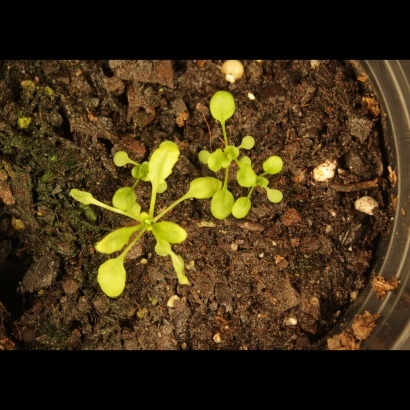leaf: (145, 135, 181, 190), (91, 256, 132, 302), (203, 81, 241, 124), (89, 226, 140, 255), (66, 183, 107, 209), (168, 251, 195, 290), (151, 221, 192, 246), (186, 175, 225, 200), (208, 188, 233, 223), (111, 185, 140, 213), (234, 161, 258, 193), (148, 232, 172, 261), (230, 195, 253, 221), (261, 153, 287, 176), (110, 147, 133, 170), (263, 186, 286, 209), (238, 128, 261, 151), (191, 146, 214, 169), (204, 149, 227, 172), (222, 143, 245, 166)
